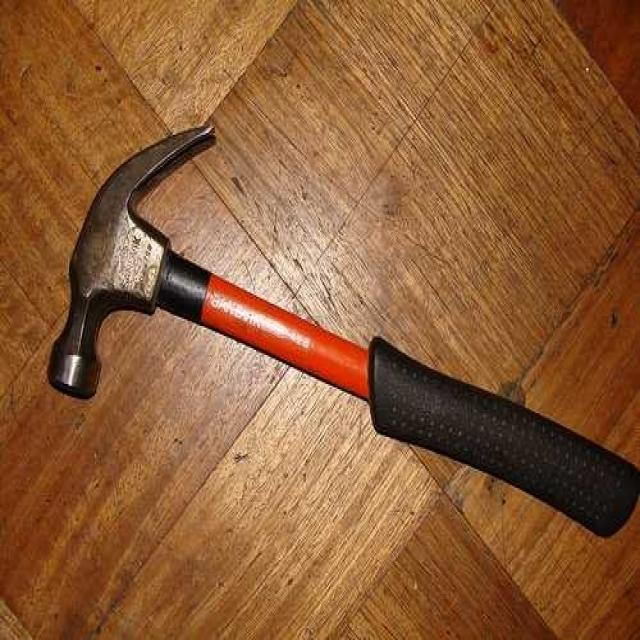hammer: (46, 124, 640, 540)
